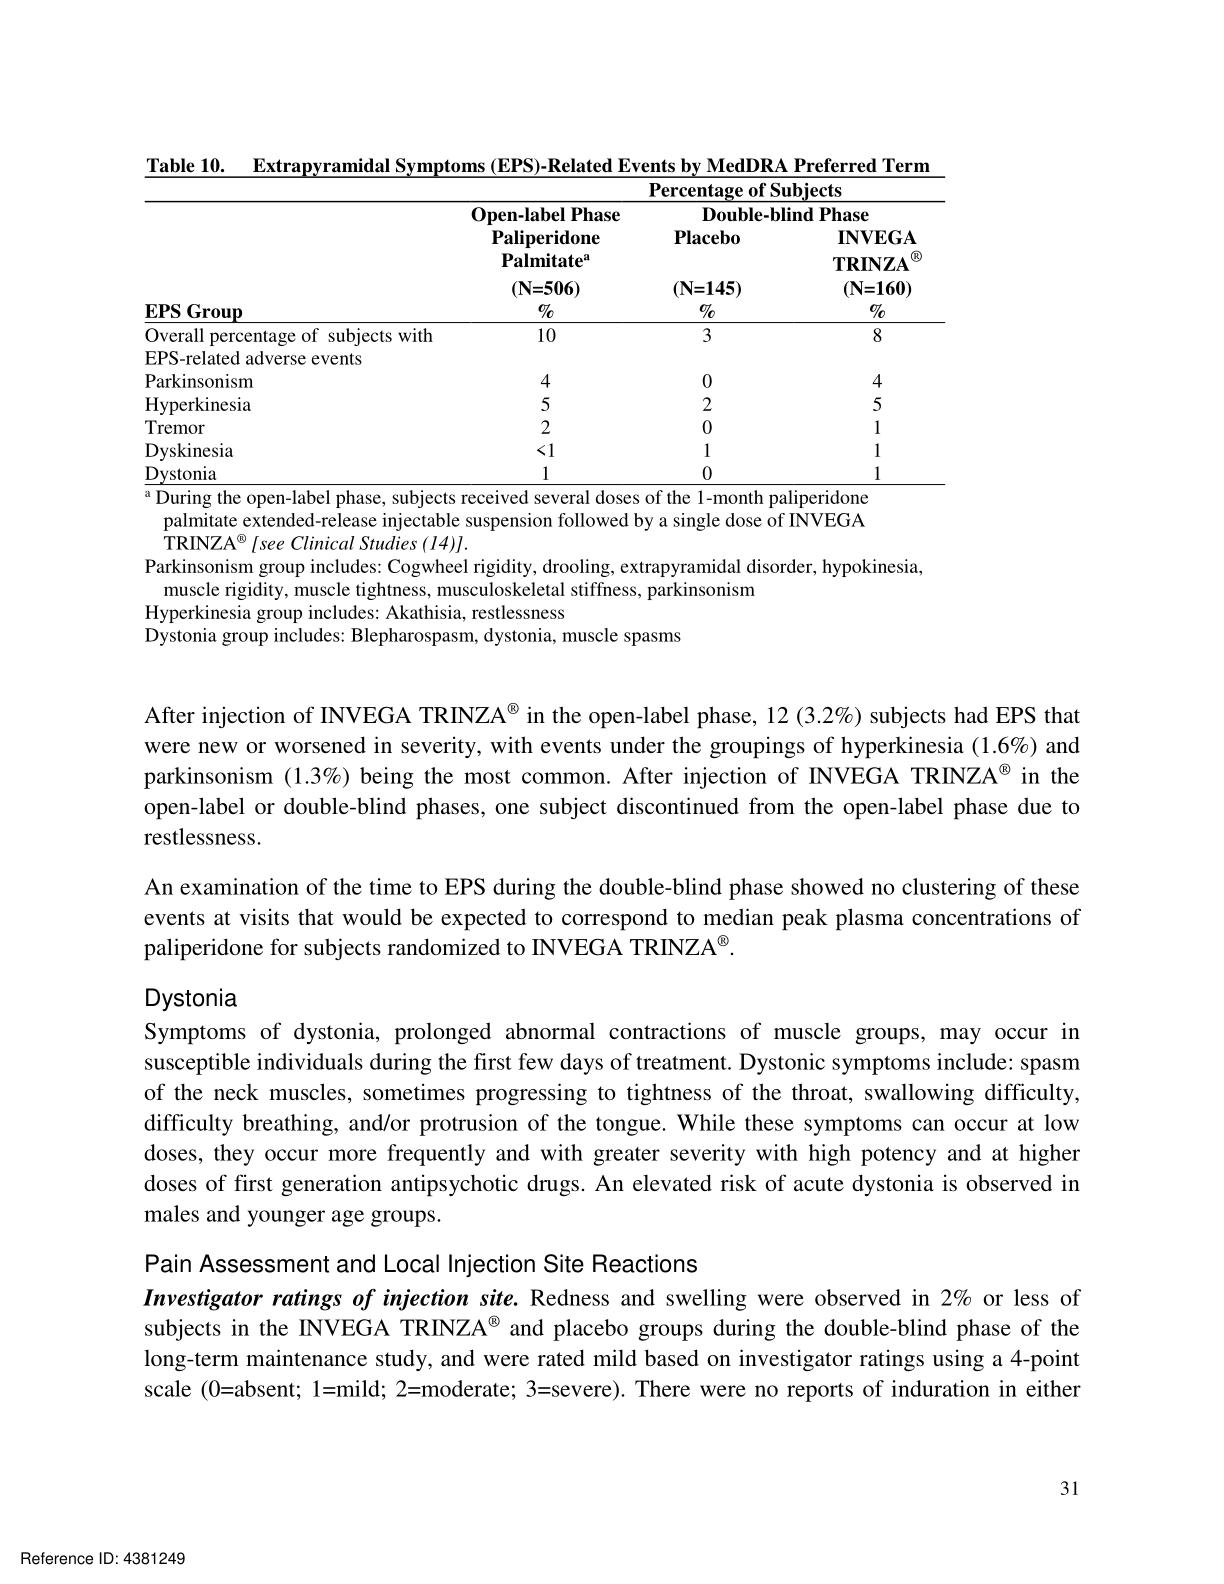partial_lined_merged_cells: (143, 176, 948, 487)
